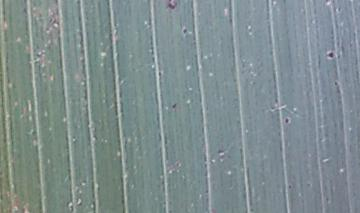tarspot: (165, 1, 179, 14), (324, 48, 338, 59), (282, 115, 292, 125), (169, 101, 180, 110), (180, 26, 191, 35), (215, 147, 226, 156), (285, 180, 293, 192), (332, 79, 339, 88)
